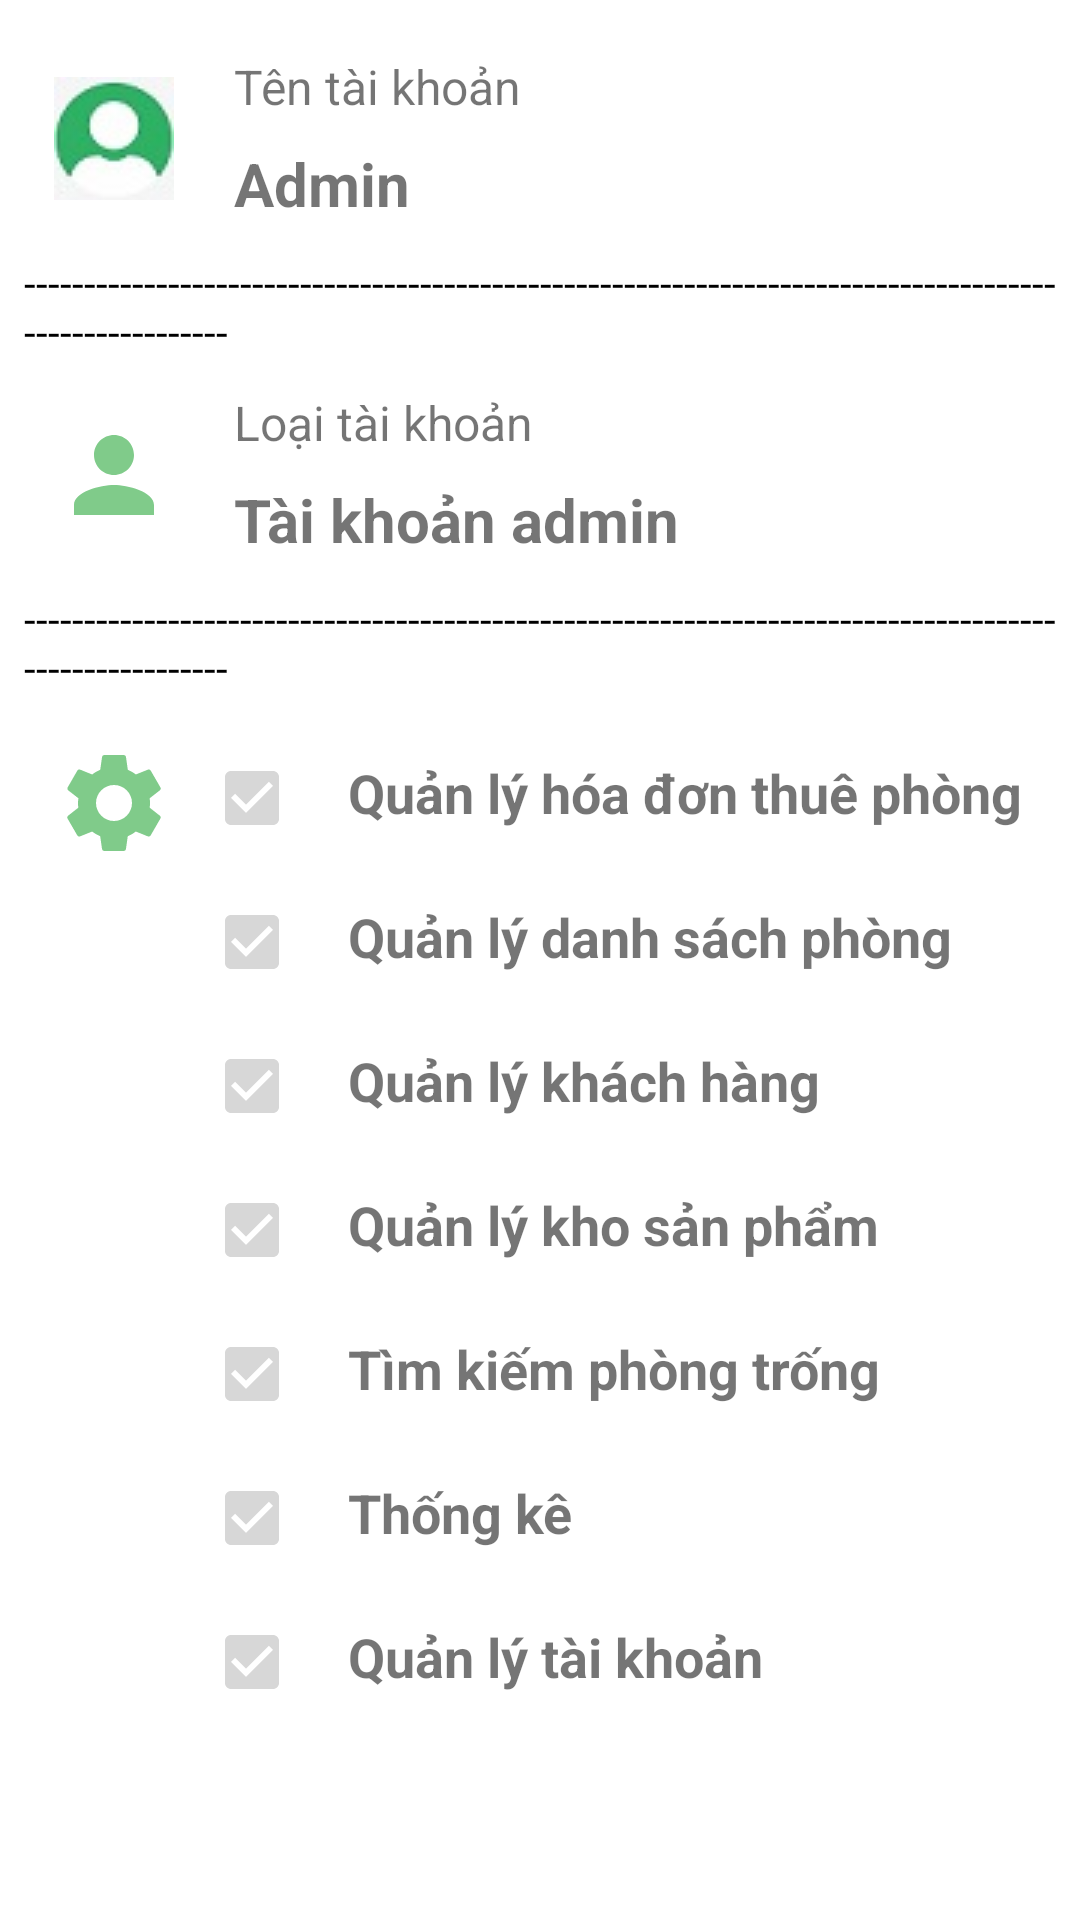

Named icons in this screenshot (1080*1920) and their bounding boxes, bbox(x1, y1, x2, y2):
account: bbox(54, 80, 174, 177)
staff: bbox(74, 435, 154, 515)
